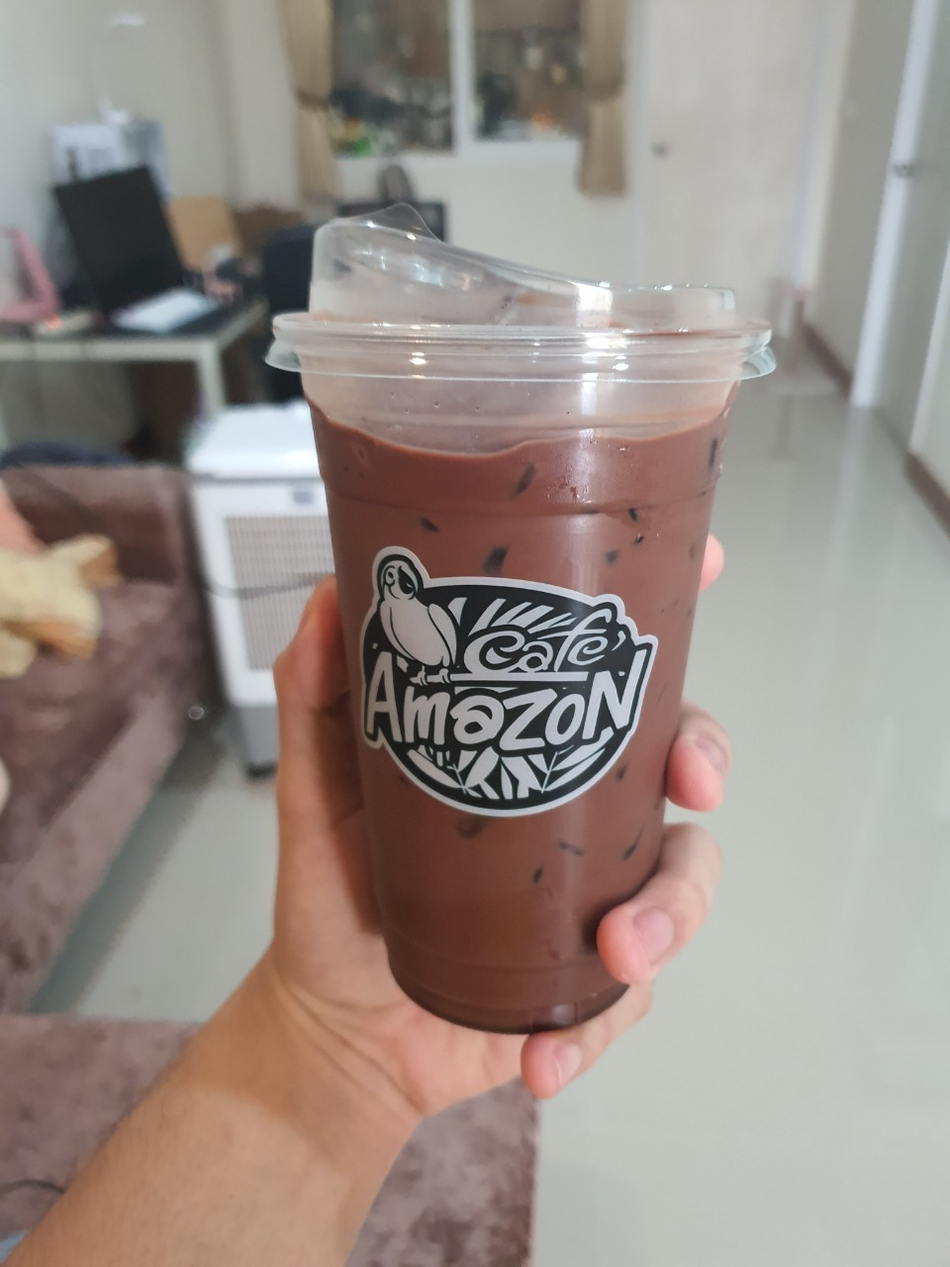plastic: (245, 184, 794, 1060)
